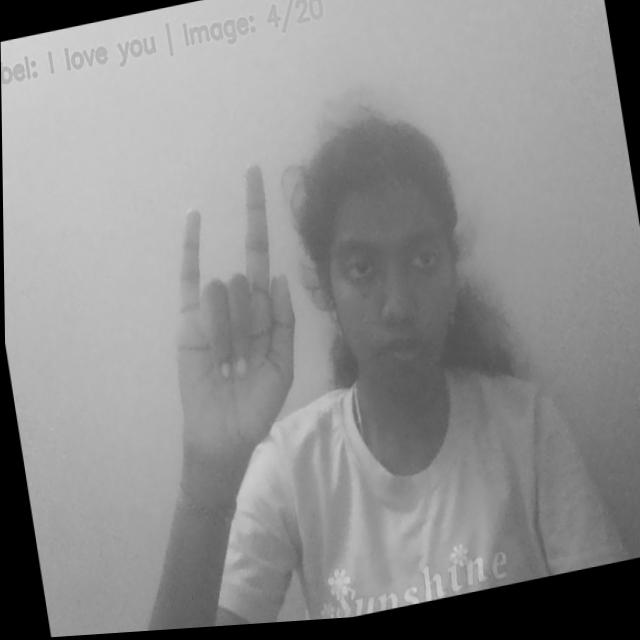I love you: (138, 155, 315, 479)
